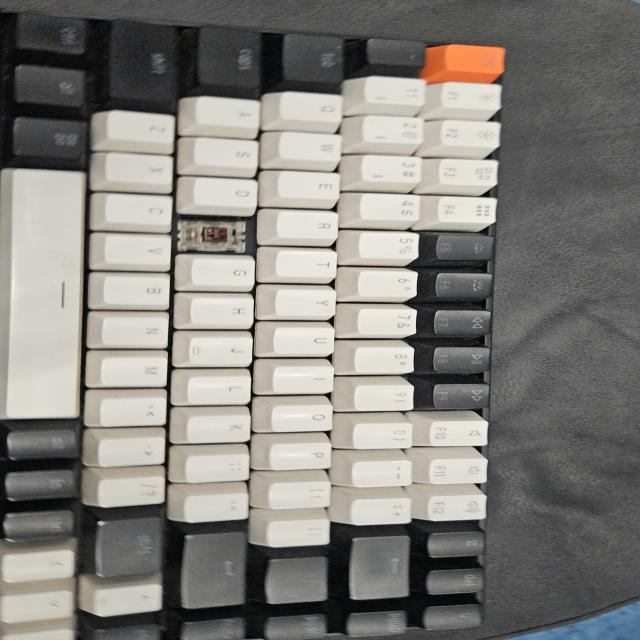C: (181, 217, 244, 252)
